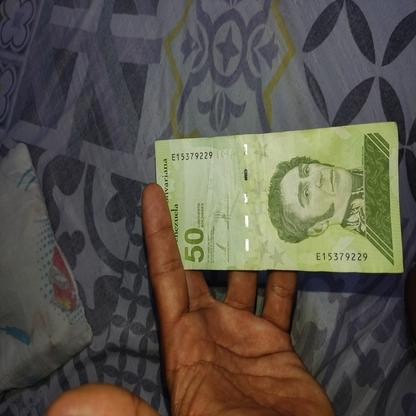fifty-front-vef: (153, 122, 403, 274)
